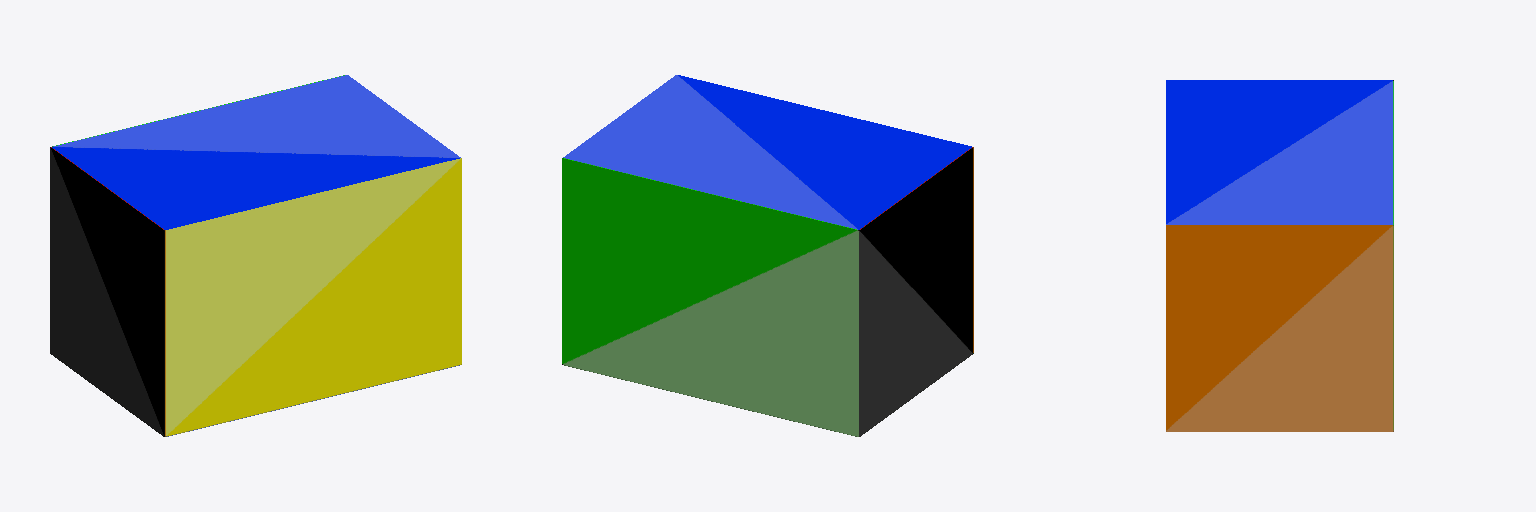
3 renders of one model, left to right at view 1: azimuth 30°, elevation 25°; view 2: azimuth 150°, elevation 25°; view 3: azimuth 270°, elevation 25°, orthographic.
Parts seen in each view (by area): view 1: Cube; view 2: Cube; view 3: Cube.
Part boxes in pixels (x1,y1,x2,y2): Cube: (50, 75, 461, 436); Cube: (562, 75, 973, 436); Cube: (1166, 80, 1393, 431).
Size of the model in its own units: 3 by 2 by 2.
1 materials, 1 textured.